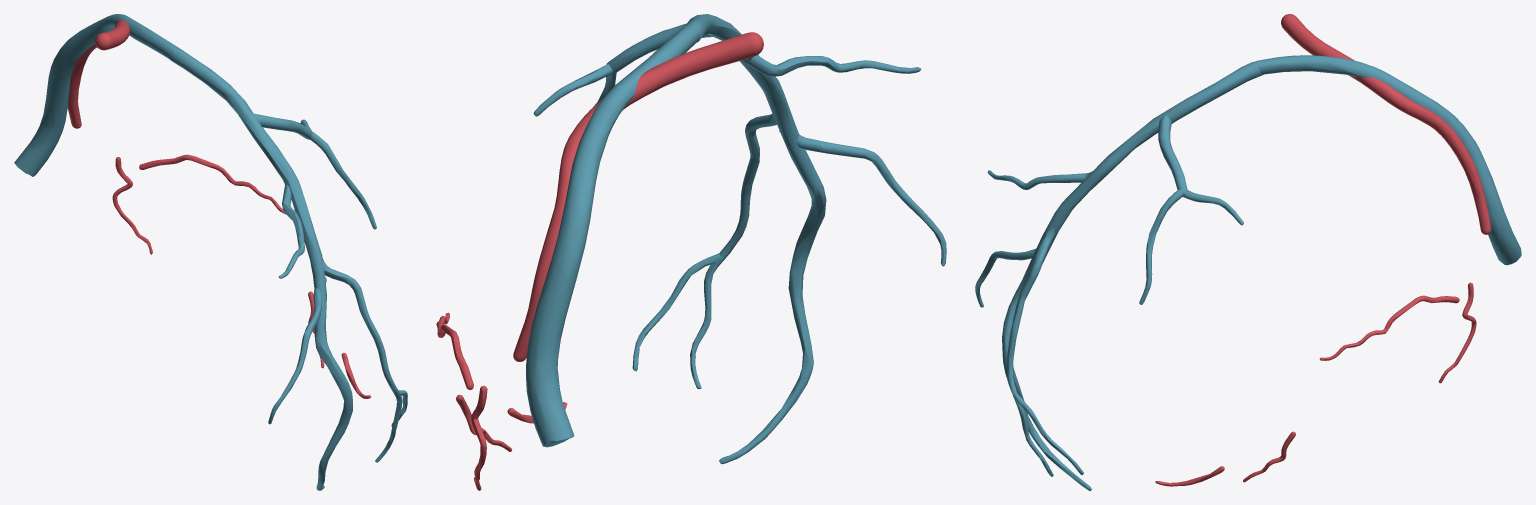
File: heart-surface-details.glb
The picture shows the model from 3 angles, left to right: view 1: azimuth 30°, elevation 25°; view 2: azimuth 150°, elevation 25°; view 3: azimuth 270°, elevation 25°; orthographic projection. The views are drawn at different scales.
Parts seen in each view (by area): view 1: FJ2665, FJ2656, FJ2659, FJ2649, FJ2658, FJ2651, FJ2663, FJ2661, FJ2662, FJ2650; view 2: FJ2656, FJ2665, FJ2649, FJ2659, FJ2658, FJ2661, FJ2662, FJ2660, FJ2664, FJ2650, FJ2651; view 3: FJ2656, FJ2665, FJ2649, FJ2659, FJ2662, FJ2663, FJ2651, FJ2661, FJ2658, FJ2650.
Boxes of the visible parts, box(x1,y1,x2,y2) form: FJ2665: box(168, 48, 352, 490); FJ2656: box(14, 14, 179, 176); FJ2659: box(322, 258, 402, 462); FJ2649: box(67, 20, 130, 128); FJ2658: box(268, 277, 326, 424); FJ2651: box(139, 154, 285, 214); FJ2663: box(310, 131, 376, 229); FJ2661: box(278, 184, 304, 278); FJ2662: box(252, 113, 312, 139); FJ2650: box(112, 157, 152, 254); FJ2656: box(526, 22, 702, 447); FJ2665: box(686, 14, 826, 464); FJ2649: box(513, 32, 763, 361); FJ2659: box(690, 113, 776, 388); FJ2658: box(779, 130, 946, 266); FJ2661: box(741, 55, 921, 76); FJ2662: box(607, 23, 712, 73); FJ2660: box(632, 253, 722, 371); FJ2664: box(533, 64, 613, 116); FJ2650: box(471, 385, 487, 490); FJ2651: box(436, 312, 473, 389); FJ2656: box(1256, 55, 1521, 265); FJ2665: box(1002, 61, 1263, 490); FJ2649: box(1281, 14, 1491, 234); FJ2659: box(1006, 228, 1054, 476); FJ2662: box(1158, 115, 1187, 194); FJ2663: box(1139, 189, 1183, 304); FJ2651: box(1319, 295, 1459, 360); FJ2661: box(987, 170, 1092, 189); FJ2658: box(975, 248, 1036, 307); FJ2650: box(1438, 282, 1476, 383).
Bounding box in the file's own units: 0.4248 × 0.7648 × 0.9088.
